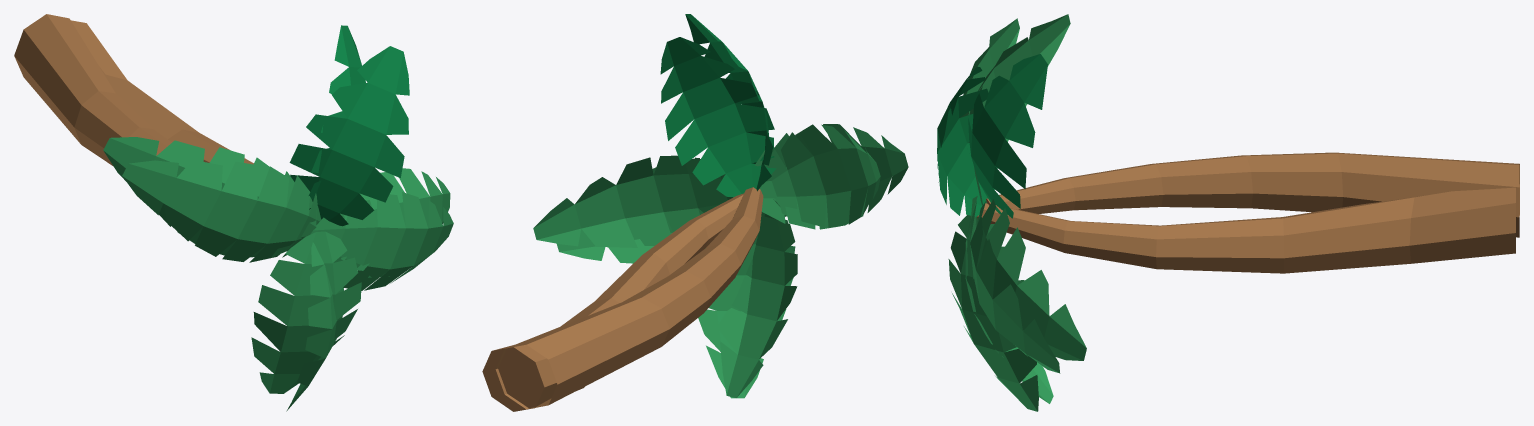
Rendered from Trees.fbx.
3 renders of one model, left to right at view 1: azimuth 30°, elevation 25°; view 2: azimuth 150°, elevation 25°; view 3: azimuth 270°, elevation 25°, orthographic. The views are drawn at different scales.
Visible parts, largest first — view 1: Tree 2, Tree 1; view 2: Tree 1, Tree 2; view 3: Tree 1, Tree 2.
Part boxes in pixels (x1,y1,x2,y2): Tree 2: (71, 20, 453, 393); Tree 1: (14, 14, 450, 411); Tree 1: (495, 37, 908, 409); Tree 2: (482, 14, 880, 411); Tree 1: (948, 18, 1519, 411); Tree 2: (937, 14, 1515, 403).
Size of the model in its own units: 492 by 479 by 655.
